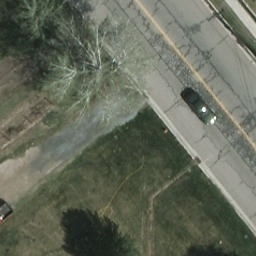car: (181, 92, 219, 128)
